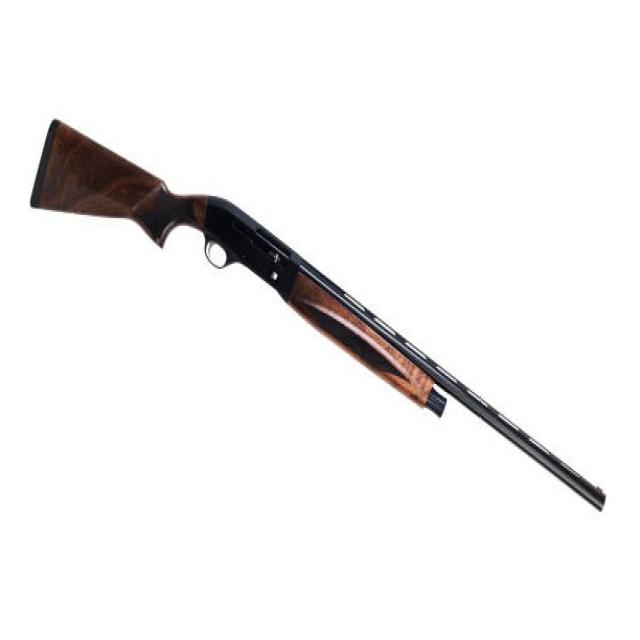rifle: (29, 113, 613, 519)
